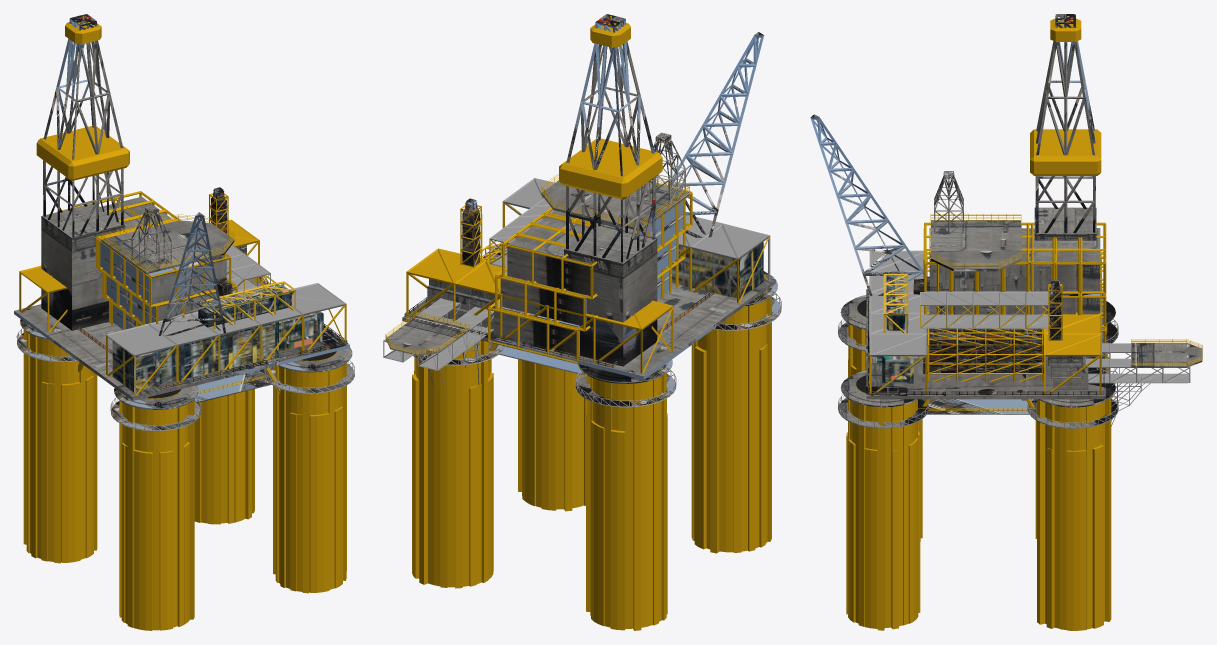
The model's file is rig.glb.
The picture shows the model from 3 angles, left to right: view 1: azimuth 30°, elevation 25°; view 2: azimuth 150°, elevation 25°; view 3: azimuth 270°, elevation 25°; orthographic projection. The views are drawn at different scales.
Visible parts, largest first — view 1: Cylinder.008_18, Cylinder.006_20, Cylinder.007_19, Cylinder.005_21, Cube.030_46, Cube.034_42, Cube.031_45, Plane.008_0, Plane.004_4, Cube.024_52, Cube.025_51, Cube.032_44 (+16 smaller); view 2: Cylinder.007_19, Cylinder.008_18, Cylinder.005_21, Cube.024_52, Cylinder.006_20, Cube.030_46, Cube.031_45, Plane.004_4, Plane.003_5, Cube.033_43, Cylinder.004_22, Cube.032_44 (+19 smaller); view 3: Cylinder.005_21, Cylinder.006_20, Cube.024_52, Plane.004_4, Cube.031_45, Plane.008_0, Cube.049_27, Cube.025_51, Plane.005_3, Cube.033_43, Cylinder.004_22, Cube.032_44 (+22 smaller).
Boxes of the visible parts, x1,y1,x2,y2 form: Cylinder.008_18: (119,389,194,630); Cylinder.006_20: (273,351,346,593); Cylinder.007_19: (23,329,97,563); Cylinder.005_21: (194,389,254,524); Cube.030_46: (41,203,125,330); Cube.034_42: (112,311,323,392); Cube.031_45: (43,14,123,237); Plane.008_0: (106,283,346,395); Plane.004_4: (14,278,349,400); Cube.024_52: (100,196,232,329); Cube.025_51: (101,220,234,274); Cube.032_44: (36,126,129,180); Cylinder.007_19: (586,373,667,630); Cylinder.008_18: (691,296,771,553); Cylinder.005_21: (412,340,493,588); Cube.024_52: (494,201,683,355); Cylinder.006_20: (518,359,586,511); Cube.030_46: (564,224,657,366); Cube.031_45: (566,14,655,262); Plane.004_4: (402,246,775,379); Plane.003_5: (406,248,673,373); Cube.033_43: (488,182,692,363); Cylinder.004_22: (668,32,764,237); Cube.032_44: (559,138,662,199); Cylinder.005_21: (1037,397,1111,630); Cylinder.006_20: (846,375,920,630); Cube.024_52: (929,228,1100,356); Plane.004_4: (866,289,1105,400); Cube.031_45: (1035,14,1095,233); Plane.008_0: (869,250,927,395); Cube.049_27: (923,328,1043,373); Cube.025_51: (931,220,1021,271); Plane.005_3: (920,292,1049,328); Cube.033_43: (923,222,1106,358); Cylinder.004_22: (810,114,923,296); Cube.032_44: (1030,129,1101,175).
Size of the model in its own units: 96.26 by 209 by 140.
Materials: 7 (3 with a texture image).
